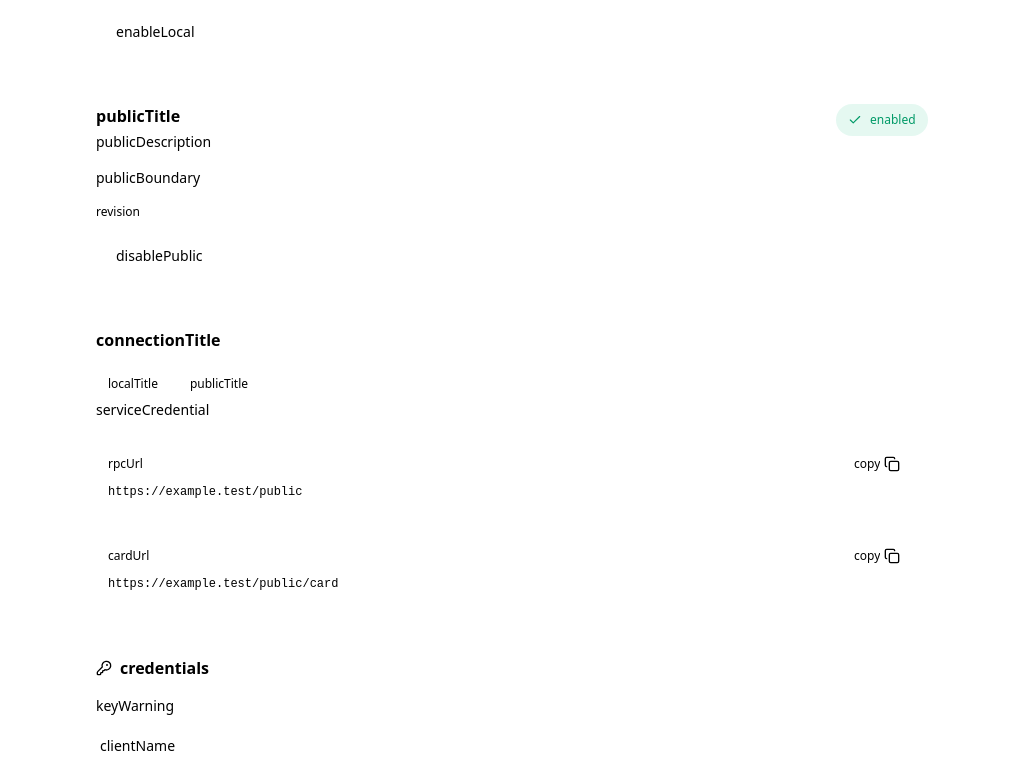
agent A2A management › loads public connection details, switches credentials, creates and hides a one-time key despite refresh failure
(page scrolled)
Expected: the text "https://example.test/public" is shown, [108, 485, 302, 499]
Click the button "localTitle": click(133, 384) [96, 368, 170, 400]
(page scrolled)
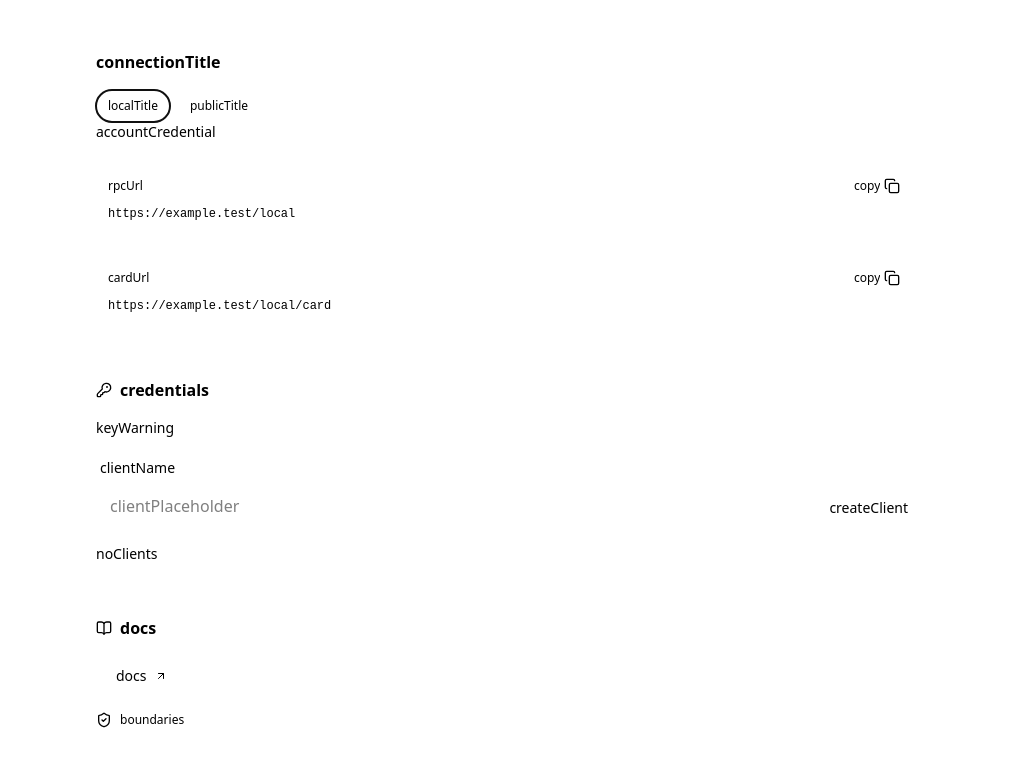
Expected: the text "https://example.test/local" is shown, [108, 207, 295, 221]
Expected: the text "accountCredential" is shown, [96, 122, 216, 141]
In the field labelled "clientName": (447, 506) [96, 484, 797, 528], type "Laptop"
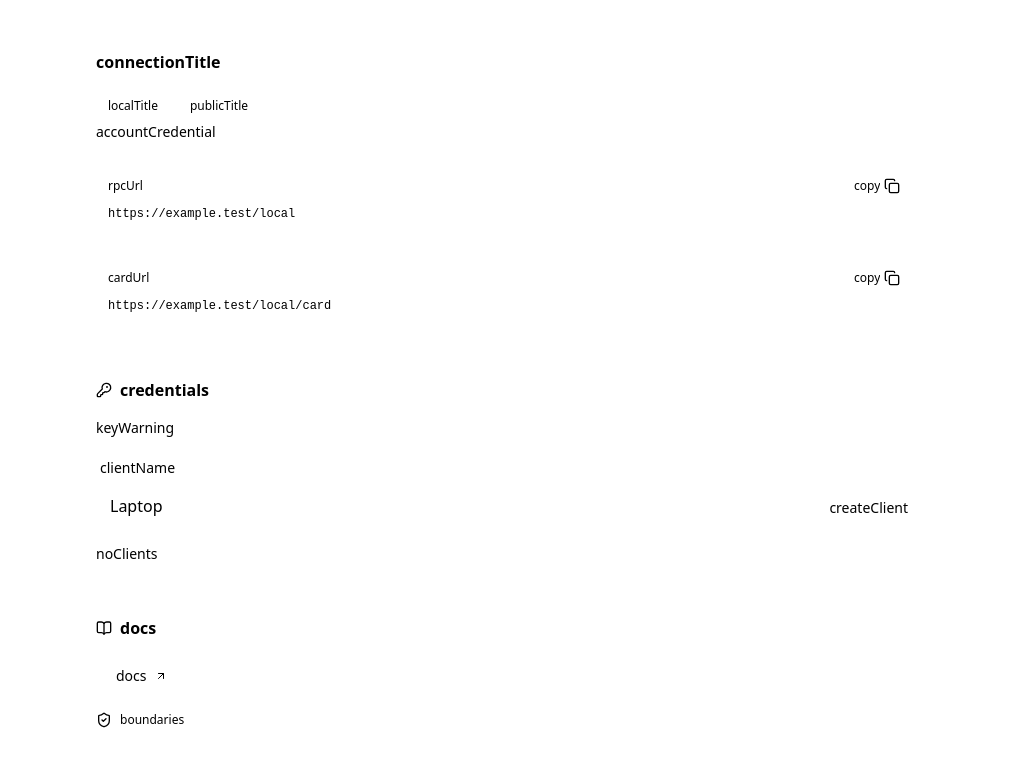
Click the button "createClient": click(869, 508) [809, 488, 928, 528]
(page scrolled)
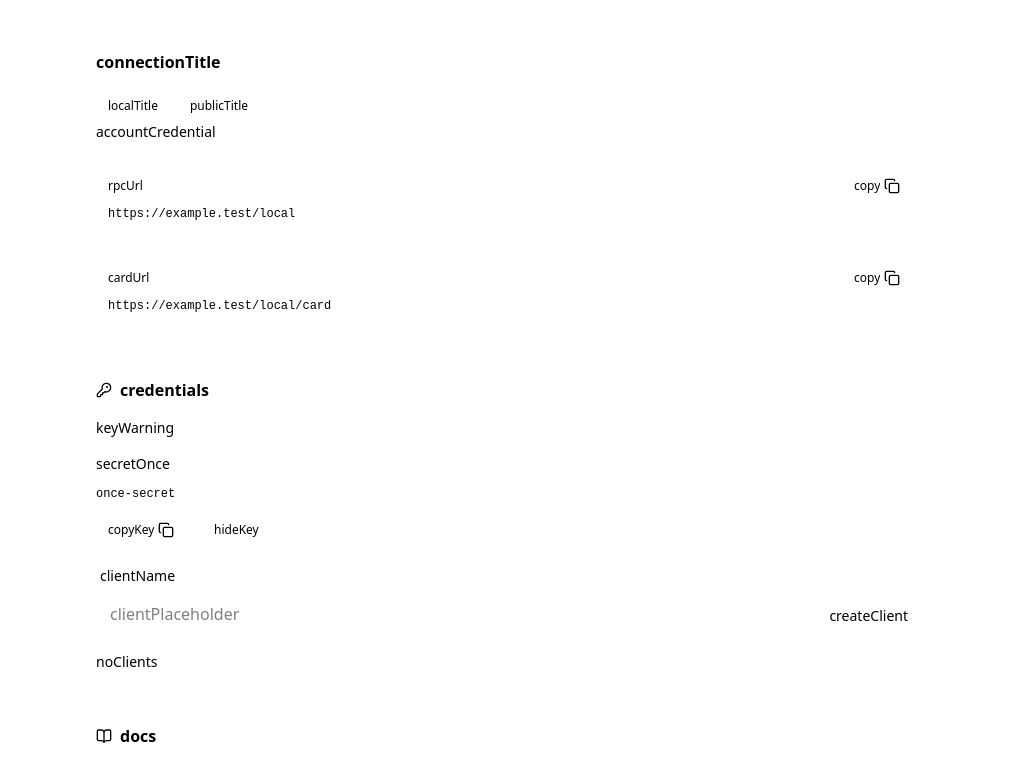
Expected: the text "once-secret" is shown, [96, 487, 175, 501]
Expected: the button "createClient" is disabled, [809, 596, 928, 636]
Click the button "hideKey": click(236, 530) [202, 514, 271, 546]
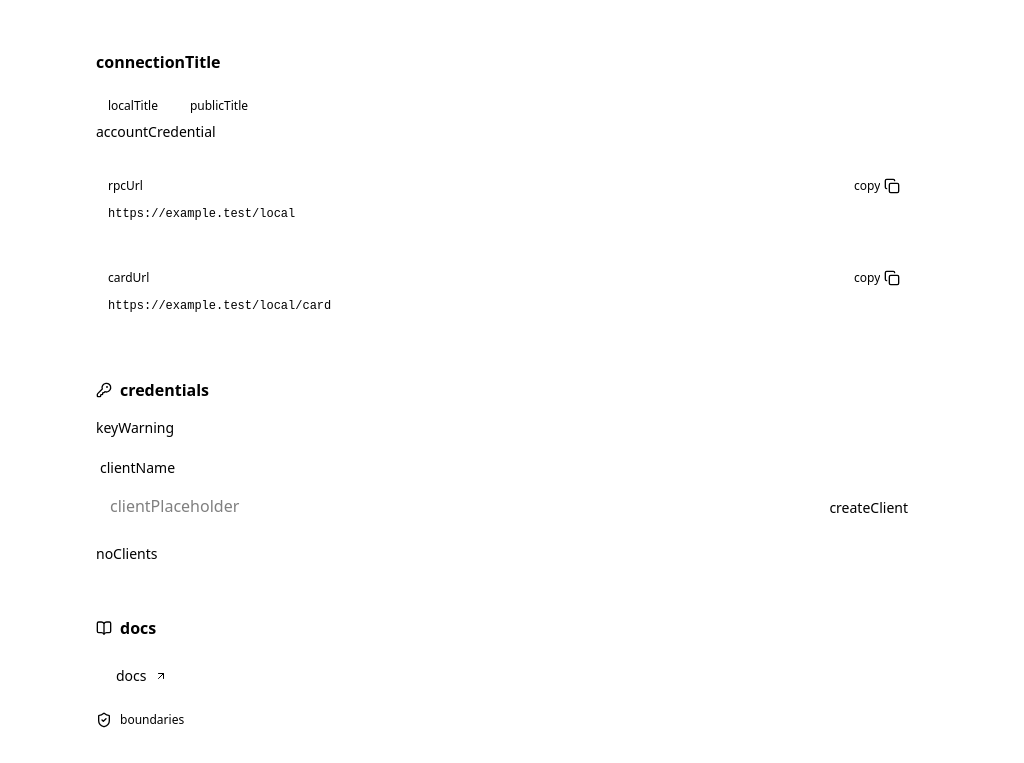
Expected: the text "once-secret" is gone
